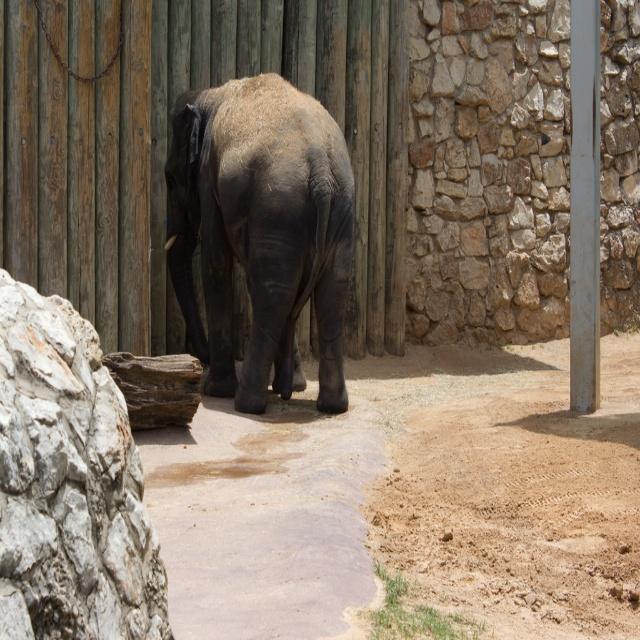Elephant: (159, 72, 356, 417)
